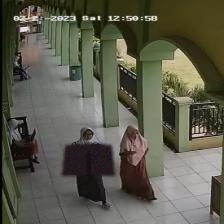Cadar_Niqab: (62, 127, 114, 175)
